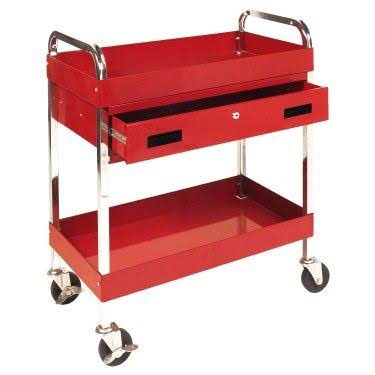Carts: (44, 7, 330, 366)
